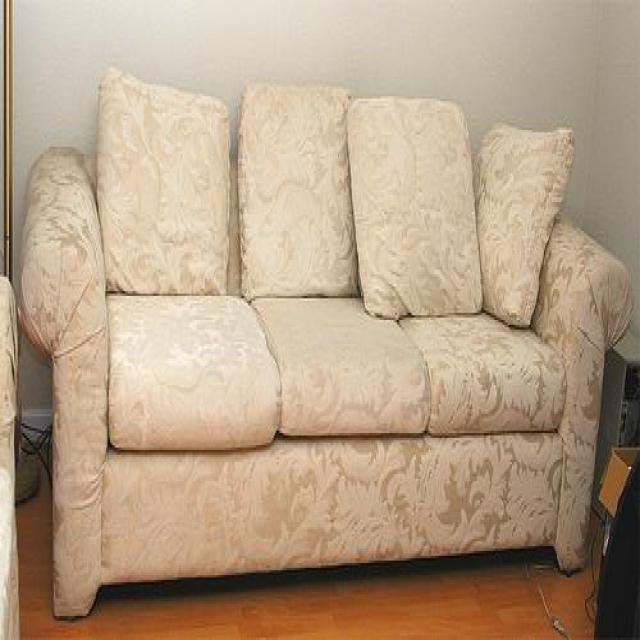sofa: (20, 64, 633, 620)
